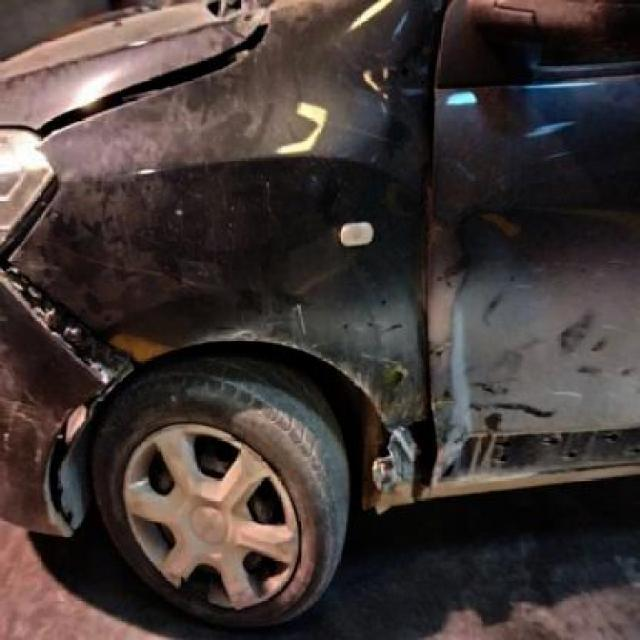car damage: (265, 199, 439, 431), (230, 0, 435, 185), (450, 182, 640, 273), (423, 178, 478, 488), (108, 262, 277, 357), (483, 398, 564, 423), (564, 310, 592, 342), (594, 334, 604, 352)
